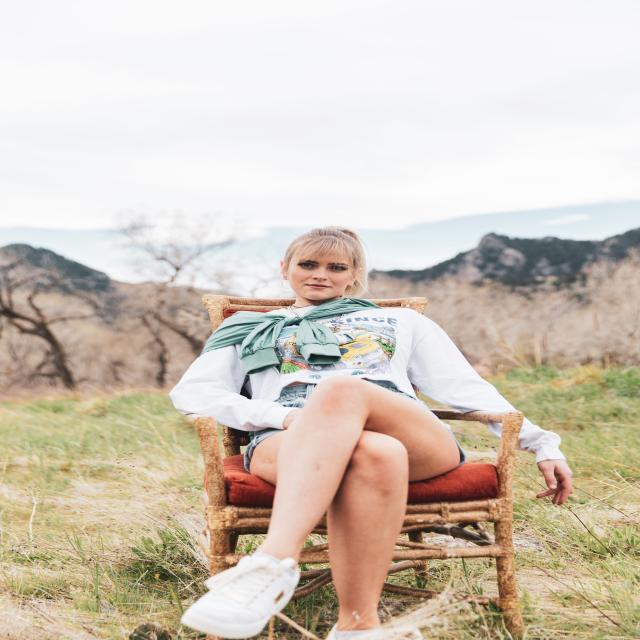nonfall: (179, 228, 520, 624)
